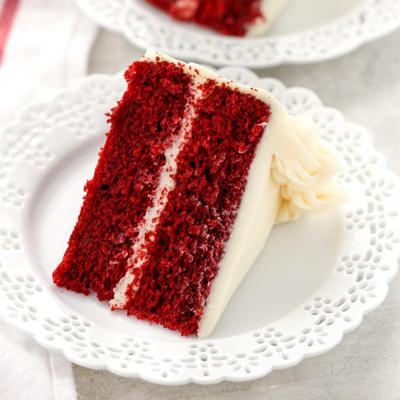cake: (50, 43, 298, 342)
